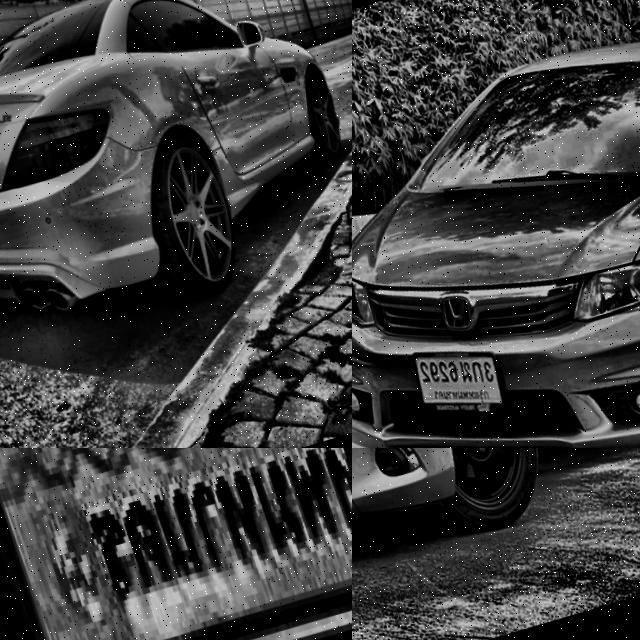license-plate: (0, 448, 352, 640), (393, 325, 510, 437)
